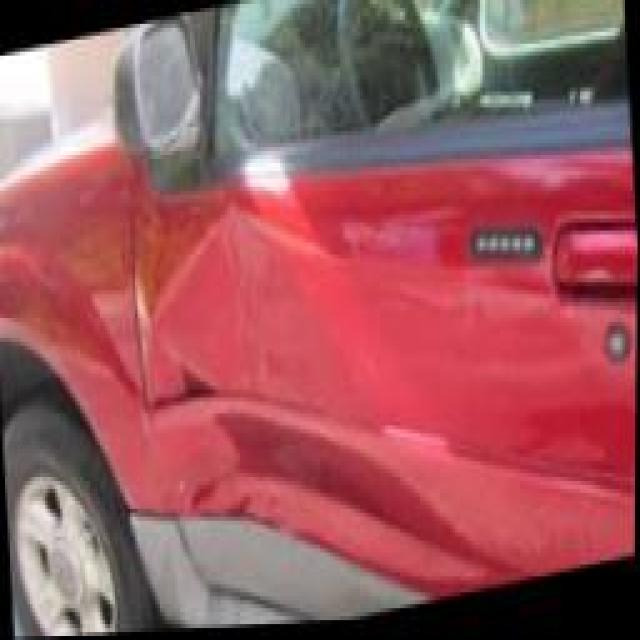rapairable: (140, 148, 414, 562)
